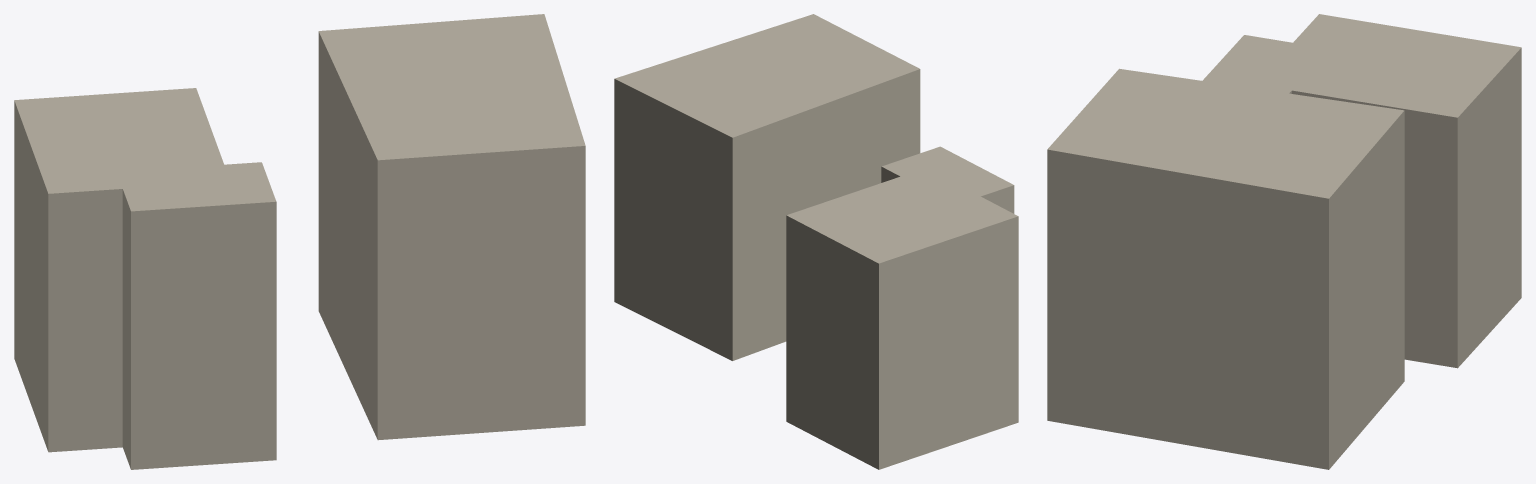
Rendered from kalkara_63_25_collision.glb.
3 views of the same model, side by side, from view 1: azimuth 30°, elevation 25°; view 2: azimuth 150°, elevation 25°; view 3: azimuth 270°, elevation 25° (orthographic). The views are drawn at different scales.
Parts seen in each view (by area): view 1: geometry_0; view 2: geometry_0; view 3: geometry_0.
Part boxes in pixels (x1,y1,x2,y2): geometry_0: (14, 14, 585, 469); geometry_0: (614, 14, 1018, 469); geometry_0: (1047, 14, 1521, 469).
Bounding box in the file's own units: 25.22 × 15.02 × 21.34.
